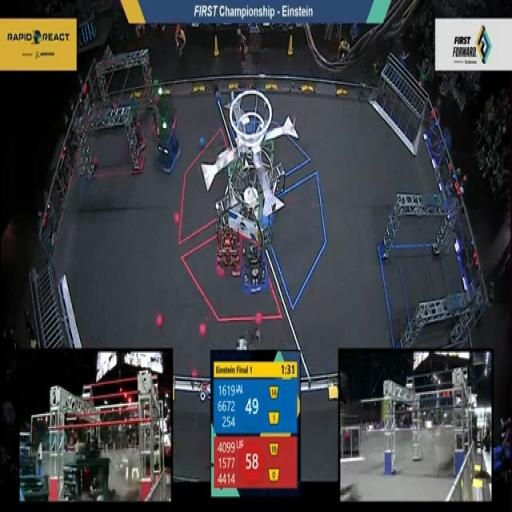robot: (213, 205, 245, 280), (152, 116, 184, 178), (240, 237, 272, 299), (148, 78, 178, 134), (123, 110, 147, 156)
